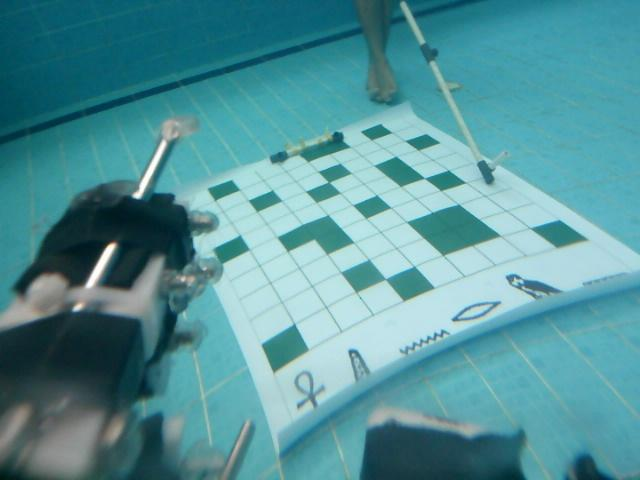Ankh: (290, 371, 326, 420)
Mouth: (450, 296, 502, 324)
Owl: (505, 269, 567, 309)
Reed: (337, 346, 374, 384)
Water: (400, 324, 449, 361)
